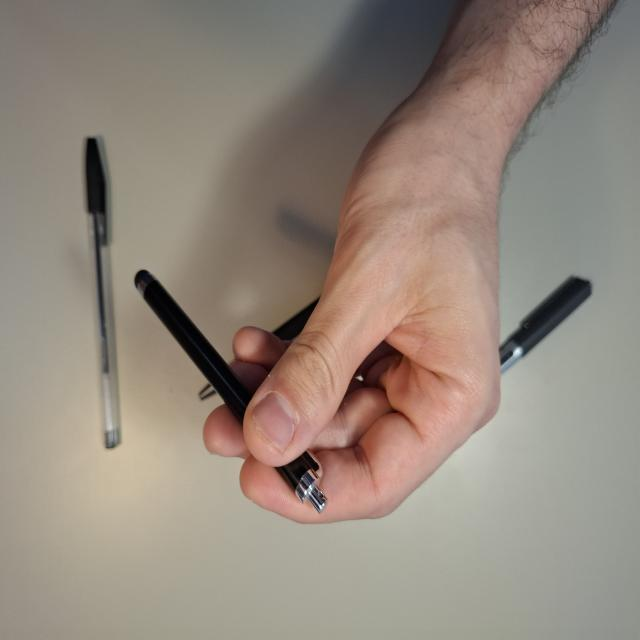glove_off: (200, 70, 548, 528)
